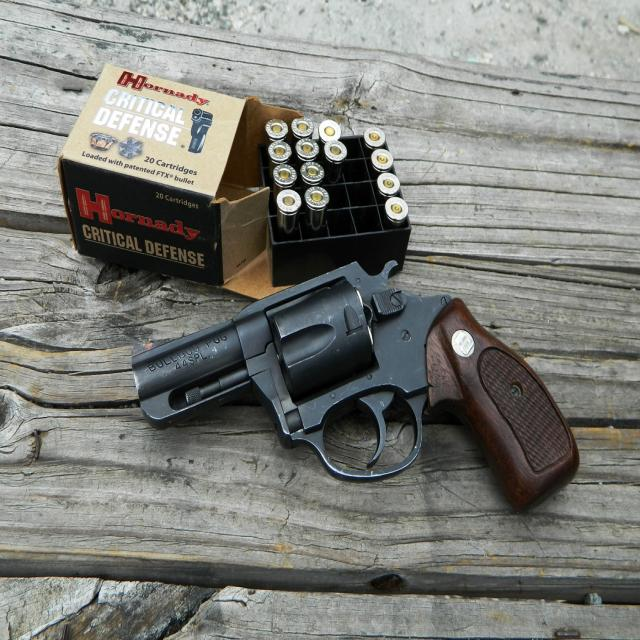Gun: (110, 234, 586, 508)
